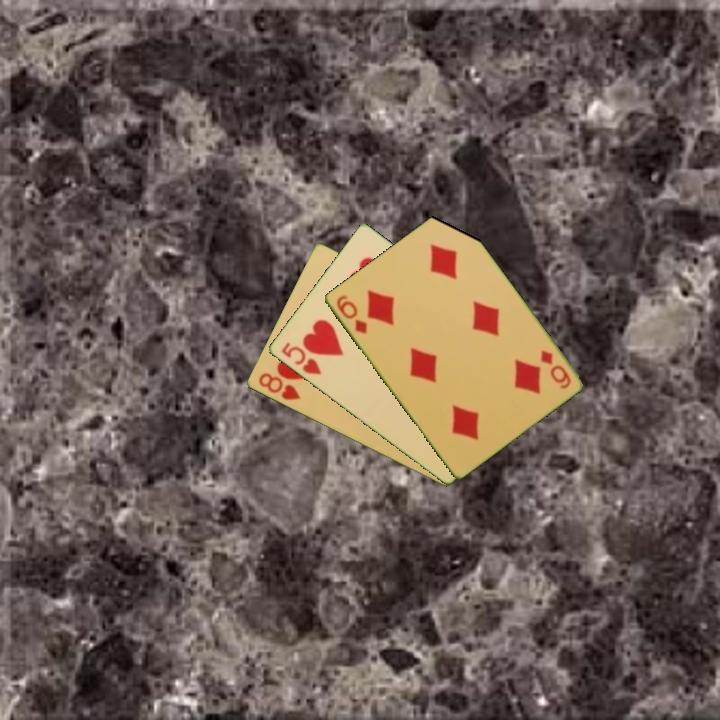5h: (277, 339, 324, 378)
6d: (332, 291, 370, 337), (536, 346, 573, 392)
8h: (254, 369, 303, 403)
